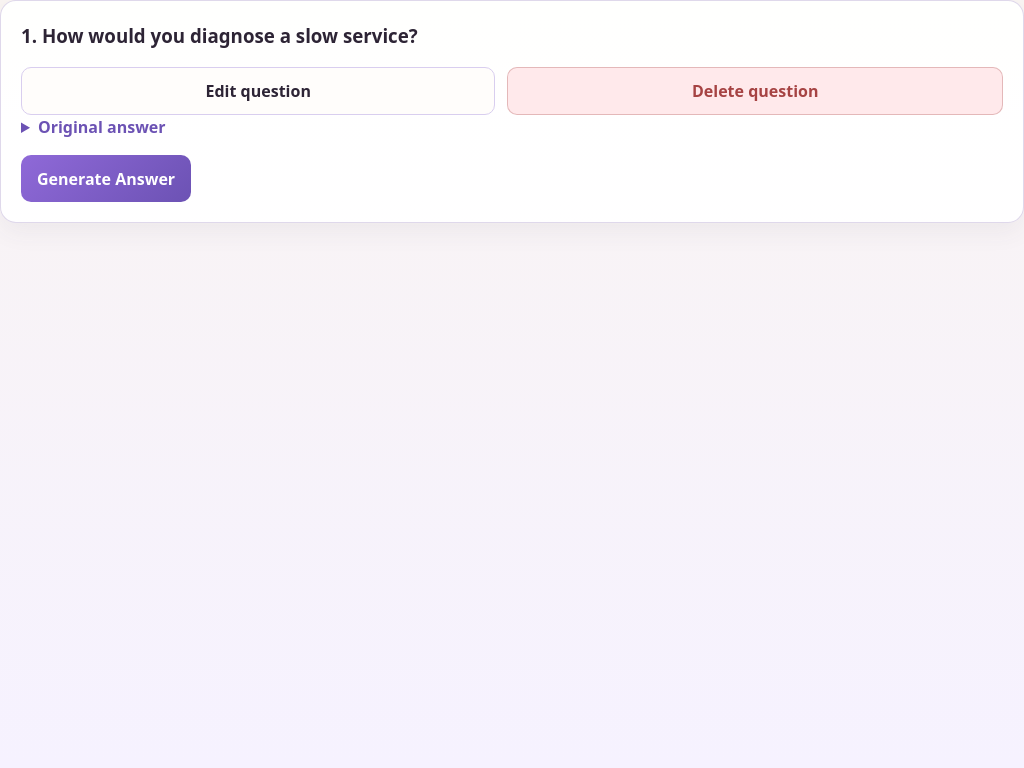
Test: QuestionCard answer guidance › shows failures and allows retry
This screenshot has width=1024, height=768.
Click the button "Generate Answer". click: [106, 178]
box: [21, 155, 191, 202]
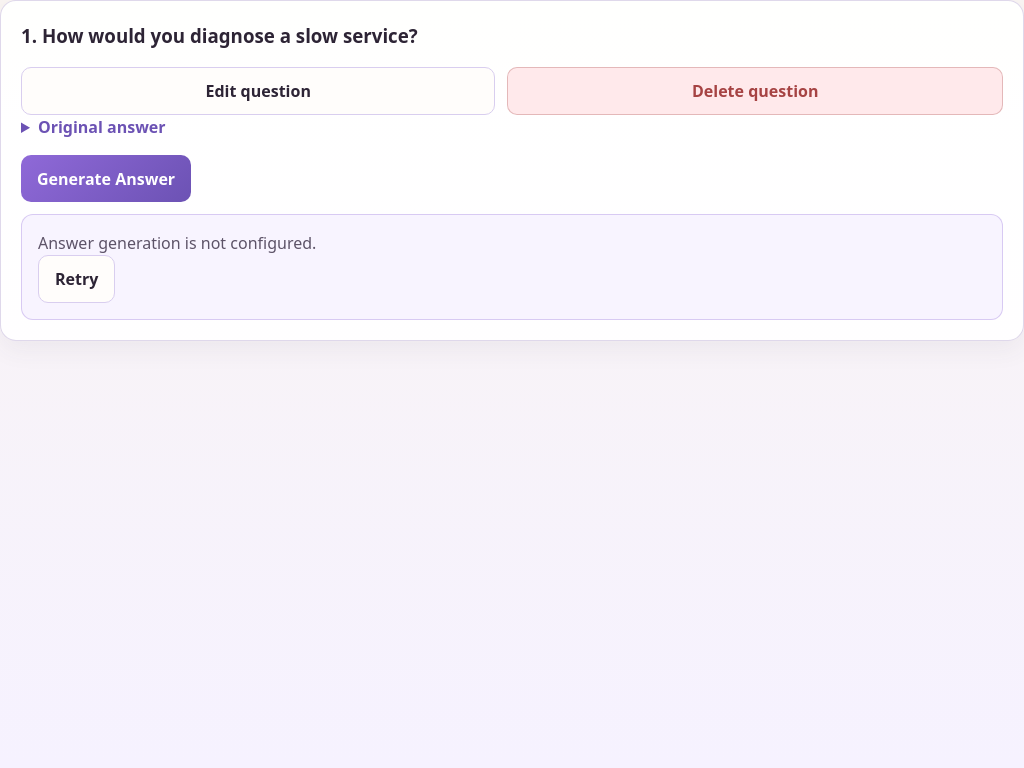
Now the text "Answer generation is not configured." is shown, box [38, 232, 316, 254]
Click the button "Retry". click: [77, 279]
box: [38, 255, 115, 303]
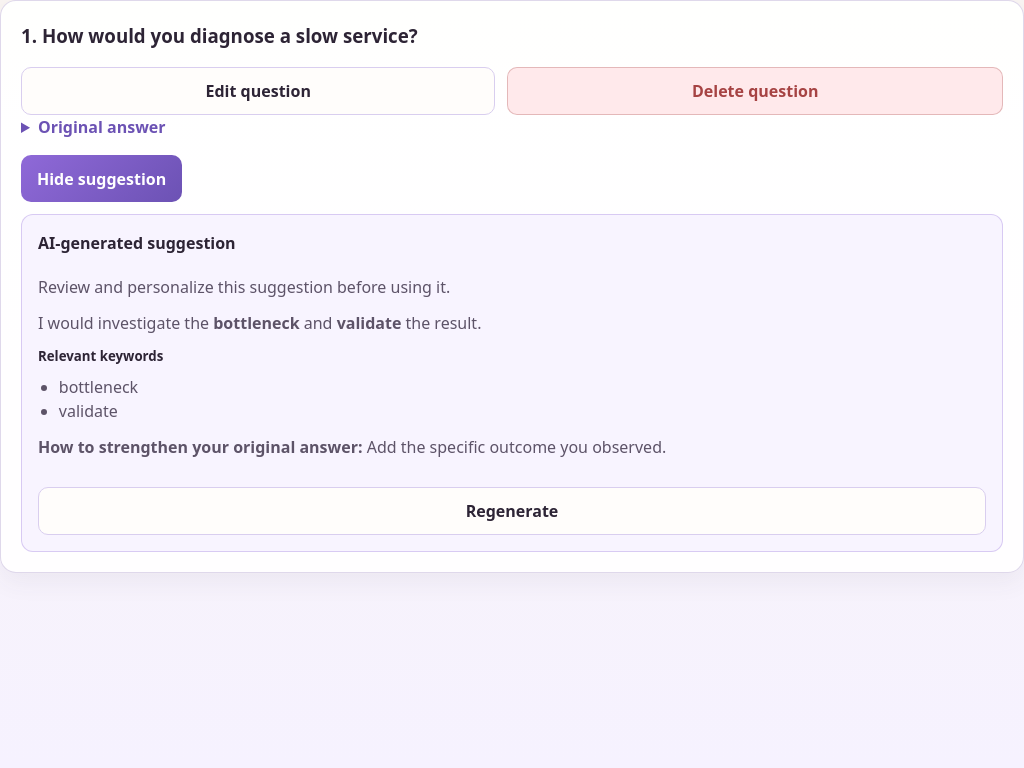
Now the heading "AI-generated suggestion" is shown, box [38, 232, 236, 254]
